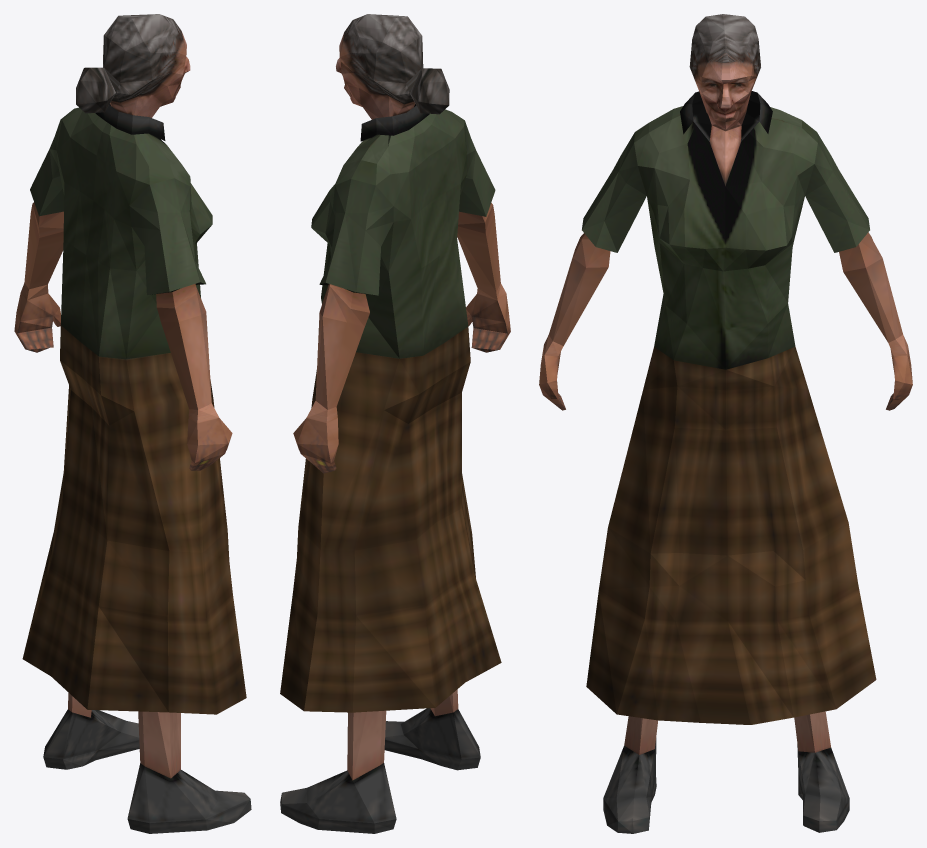
The model's file is cwfofr.obj.
3 views of the same model, side by side, from view 1: azimuth 30°, elevation 25°; view 2: azimuth 150°, elevation 25°; view 3: azimuth 270°, elevation 25° (orthographic). The views are drawn at different scales.
Visible parts, largest first — view 1: _Pelvis; view 2: _Pelvis; view 3: _Pelvis.
Boxes of the visible parts, box(x1,y1,x2,y2) form: _Pelvis: box(14, 14, 251, 833); _Pelvis: box(280, 14, 510, 833); _Pelvis: box(539, 14, 912, 833).
Size of the model in its own units: 0.3607 by 1.64 by 0.7063.
Materials: 1 (1 with a texture image).
